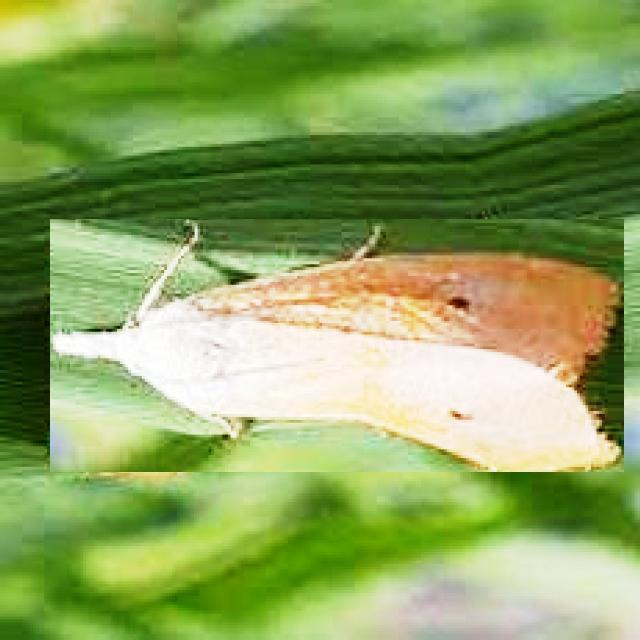stem-borer: (50, 219, 624, 472)
